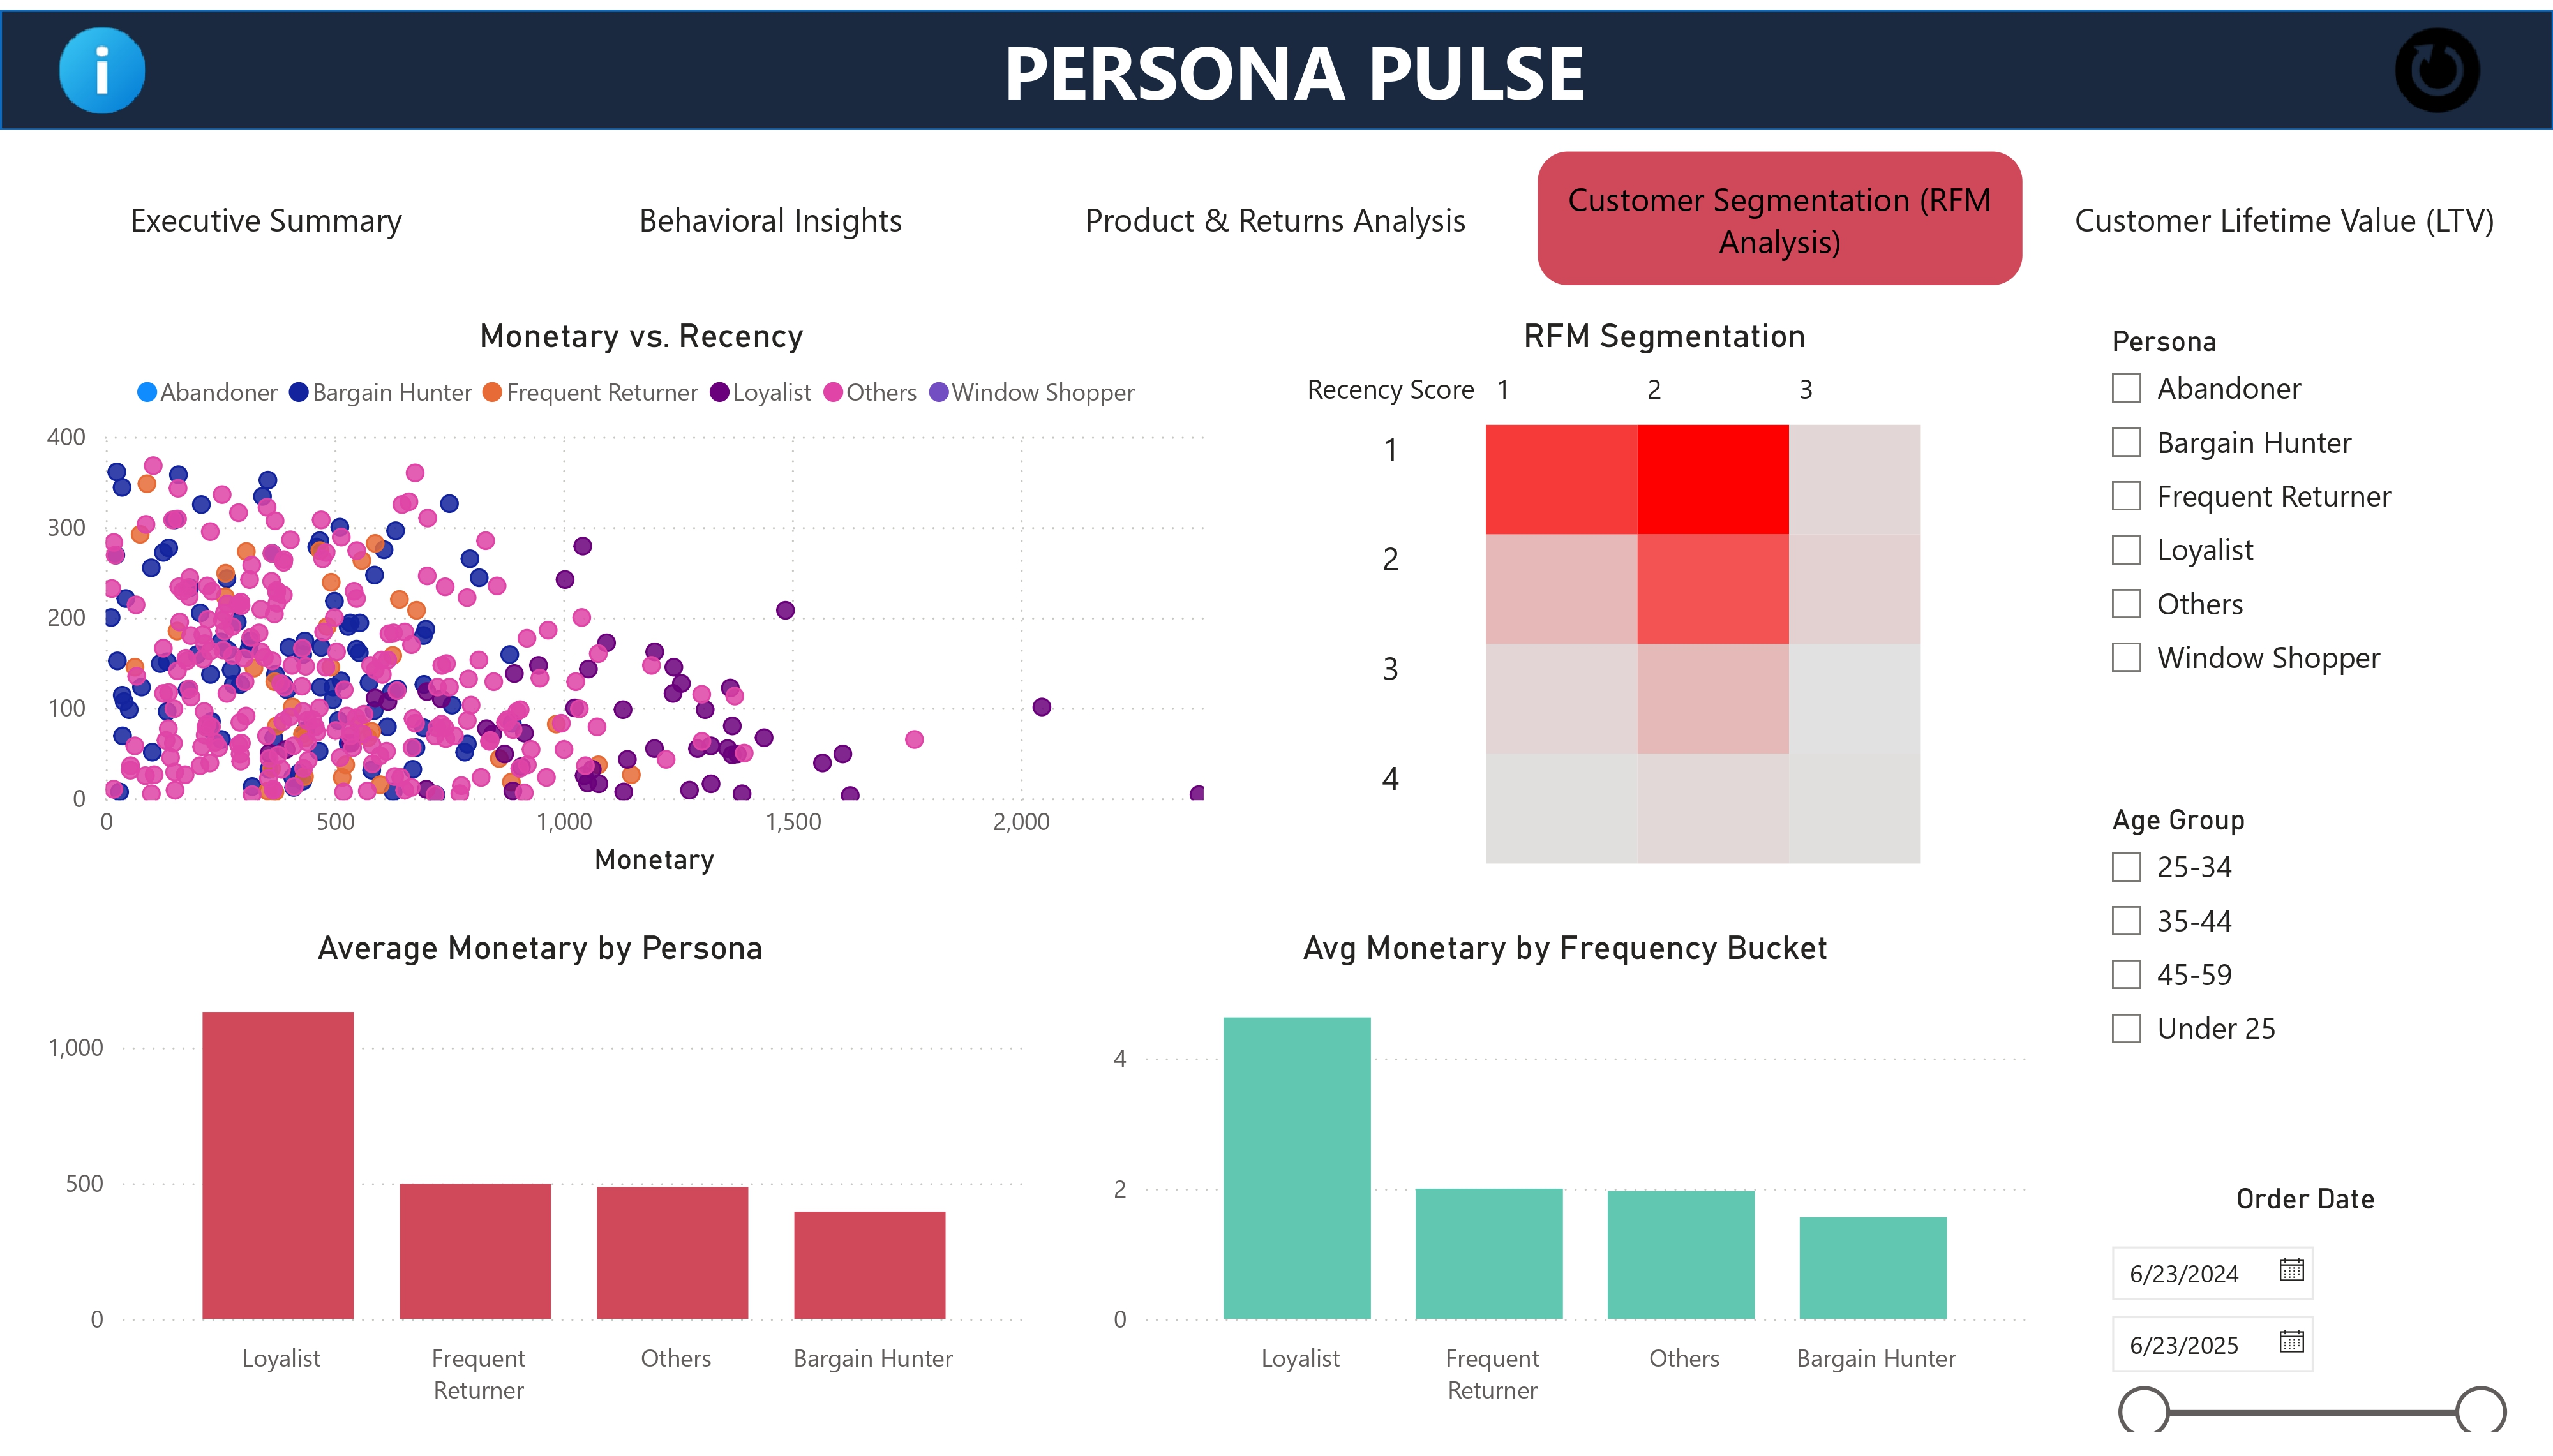

Layout of this report page (visuals, bound fields, positions):
{"tool":"powerbi","page":{"name":"Customer Segmentation (RFM Analysis)","canvas":[1280,720],"ordinal":3},"visuals":[{"type":"scatterChart","title":"Monetary vs. Recency","fields":{"X":["rfm.monetary"],"Y":["rfm.recency_days"],"Series":["users.persona"]},"box":[12.3,146.8,617.5,297.8],"z":0},{"type":"slicer","fields":{"Values":["users.persona"]},"box":[1040.1,146.8,230.5,225],"z":1000},{"type":"slicer","title":"Order Date","fields":{"Values":["orders.order_date"]},"box":[1040.1,581.8,230.5,131.7],"z":2000},{"type":"pivotTable","title":"RFM Segmentation","fields":{"Rows":["rfm.R_Score"],"Columns":["rfm.F_Score"],"Values":["CountNonNull(rfm.user_id)"]},"box":[639.5,146.8,389.7,297.8],"z":3000},{"type":"columnChart","title":"Average Monetary by Persona","fields":{"Category":["users.persona"],"Y":["Avg(rfm.monetary)"]},"box":[12.3,454.2,516,259.3],"z":4000},{"type":"columnChart","title":"Avg Monetary by Frequency Bucket","fields":{"Category":["users.persona"],"Y":["Avg(rfm.frequency)"]},"box":[539.3,454.2,489.9,259.3],"z":5000},{"type":"slicer","fields":{"Values":["users.Age Group"]},"box":[1040.1,387,230.5,177],"z":6000},{"type":"shape","box":[0,0,1280.3,60.4],"z":7000},{"type":"textbox","box":[374.6,0,547.5,60.4],"z":8000},{"type":"pageNavigator","box":[12.3,71.4,1258.3,67.2],"z":9000},{"type":"actionButton","box":[1181.5,0,82.3,60.4],"z":10000},{"type":"actionButton","box":[20.6,0,64.5,60.4],"z":10001}]}

Visuals, with their boxes in screenshot pixels (x1, y1, x2, y2), scaled from the page's 1280x720 canvas onto the 2553x1456 screenshot:
"Monetary vs. Recency" scatterChart: [x1=24, y1=297, x2=1256, y2=899]
slicer - users.persona: [x1=2074, y1=297, x2=2534, y2=752]
"Order Date" slicer: [x1=2074, y1=1177, x2=2534, y2=1443]
"RFM Segmentation" pivotTable: [x1=1275, y1=297, x2=2053, y2=899]
"Average Monetary by Persona" columnChart: [x1=24, y1=919, x2=1054, y2=1443]
"Avg Monetary by Frequency Bucket" columnChart: [x1=1075, y1=919, x2=2053, y2=1443]
slicer - users.Age Group: [x1=2074, y1=783, x2=2534, y2=1141]
shape: [x1=0, y1=0, x2=2552, y2=122]
textbox: [x1=747, y1=0, x2=1839, y2=122]
pageNavigator: [x1=24, y1=144, x2=2534, y2=280]
actionButton: [x1=2356, y1=0, x2=2520, y2=122]
actionButton: [x1=41, y1=0, x2=170, y2=122]
